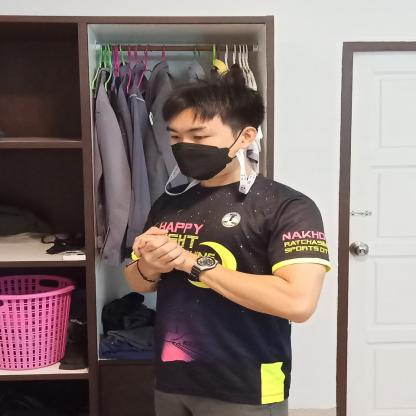Grieve: (113, 221, 331, 335)
